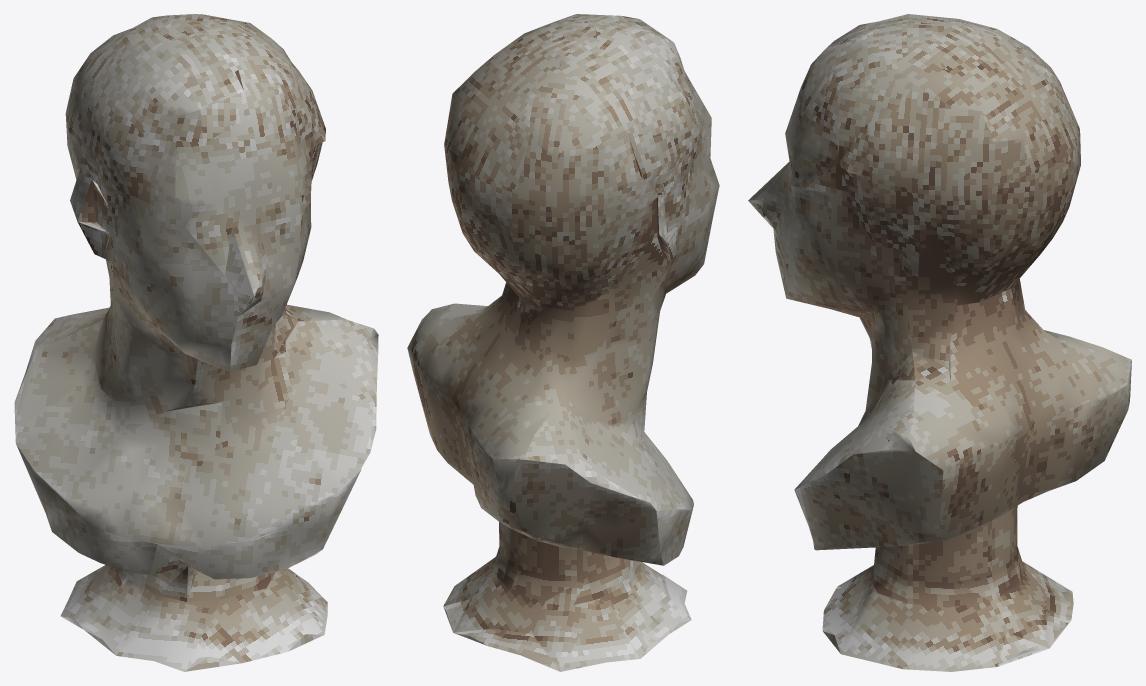
File: sv_bust.glb
3 views of the same model, side by side, from view 1: azimuth 30°, elevation 25°; view 2: azimuth 150°, elevation 25°; view 3: azimuth 270°, elevation 25° (orthographic). The views are drawn at different scales.
Visible parts, largest first — view 1: sv_bust; view 2: sv_bust; view 3: sv_bust.
Boxes of the visible parts, x1,y1,x2,y2 form: sv_bust: [14, 14, 378, 671]; sv_bust: [407, 14, 719, 671]; sv_bust: [748, 14, 1131, 671].
Bounding box in the file's own units: 0.4614 × 0.875 × 0.5101.
1 material, 1 textured.
